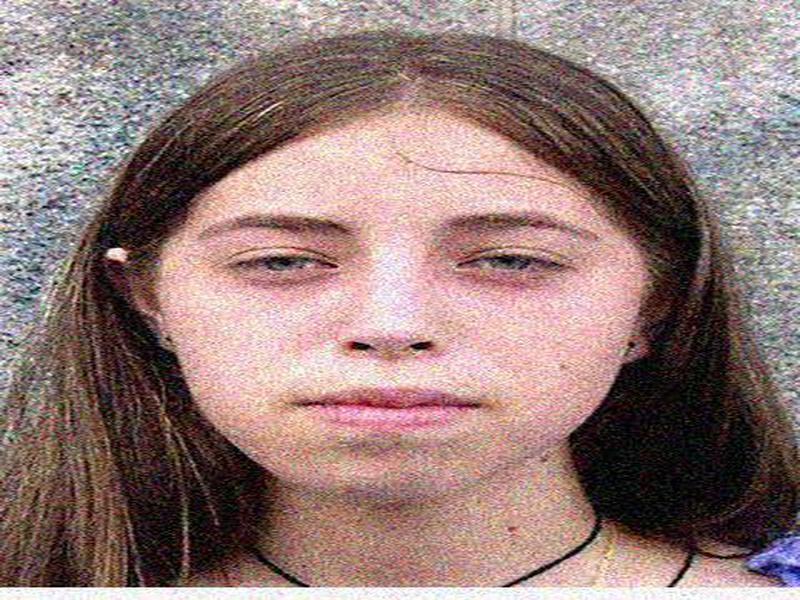without_mask: (182, 144, 612, 504)
